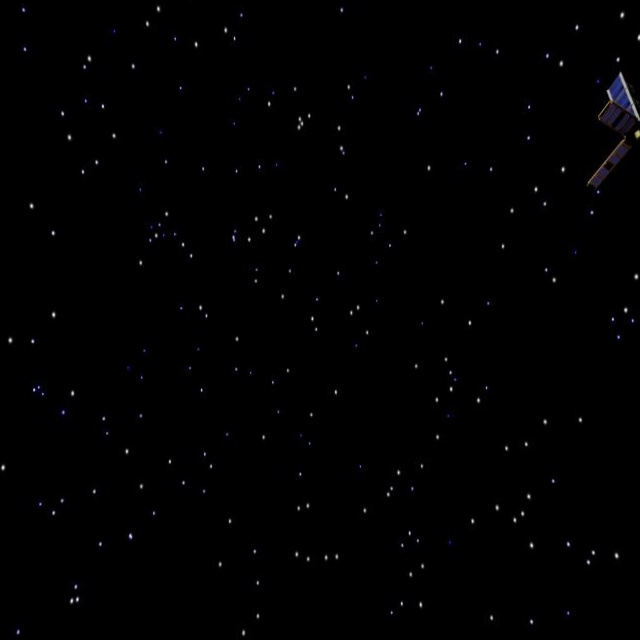satellite: (587, 62, 640, 189)
